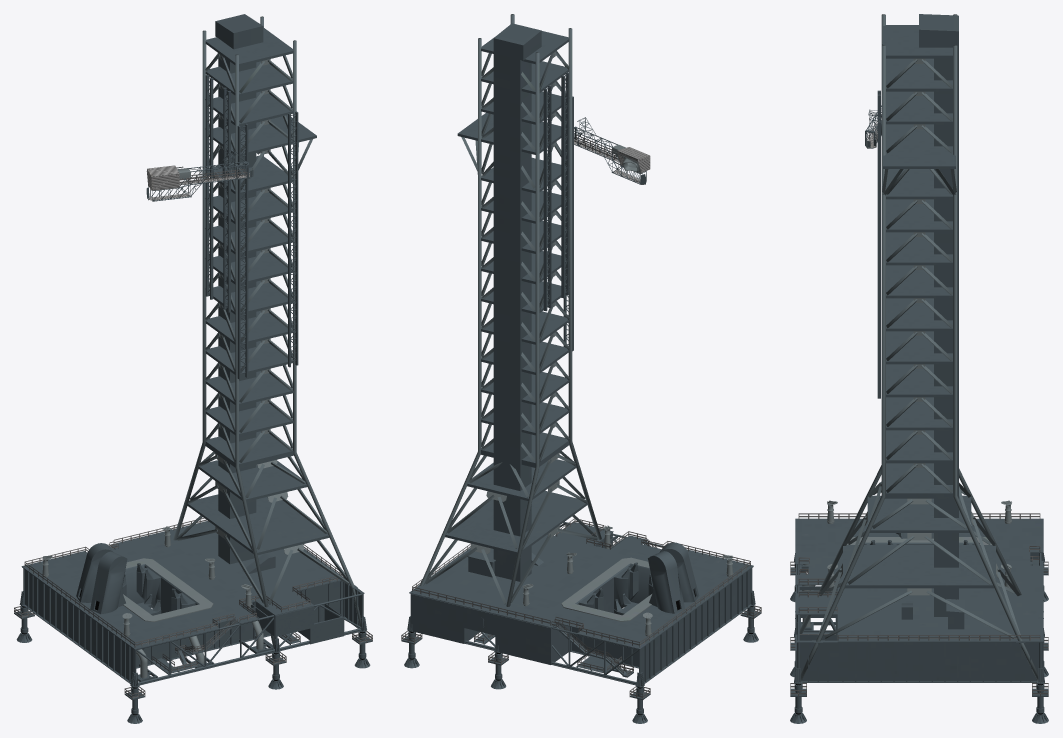
The model's file is mobile-launcher.glb.
The picture shows the model from 3 angles, left to right: view 1: azimuth 30°, elevation 25°; view 2: azimuth 150°, elevation 25°; view 3: azimuth 270°, elevation 25°; orthographic projection. The views are drawn at different scales.
Parts seen in each view (by area): view 1: ML_HP; view 2: ML_HP; view 3: ML_HP.
Boxes of the visible parts, <box> form: ML_HP: <box>14,14,372,723</box>; ML_HP: <box>401,14,761,723</box>; ML_HP: <box>790,14,1048,723</box>.
Bounding box in the file's own units: 1.02 × 2.46 × 0.8672.
Materials: 2 (2 with a texture image).
